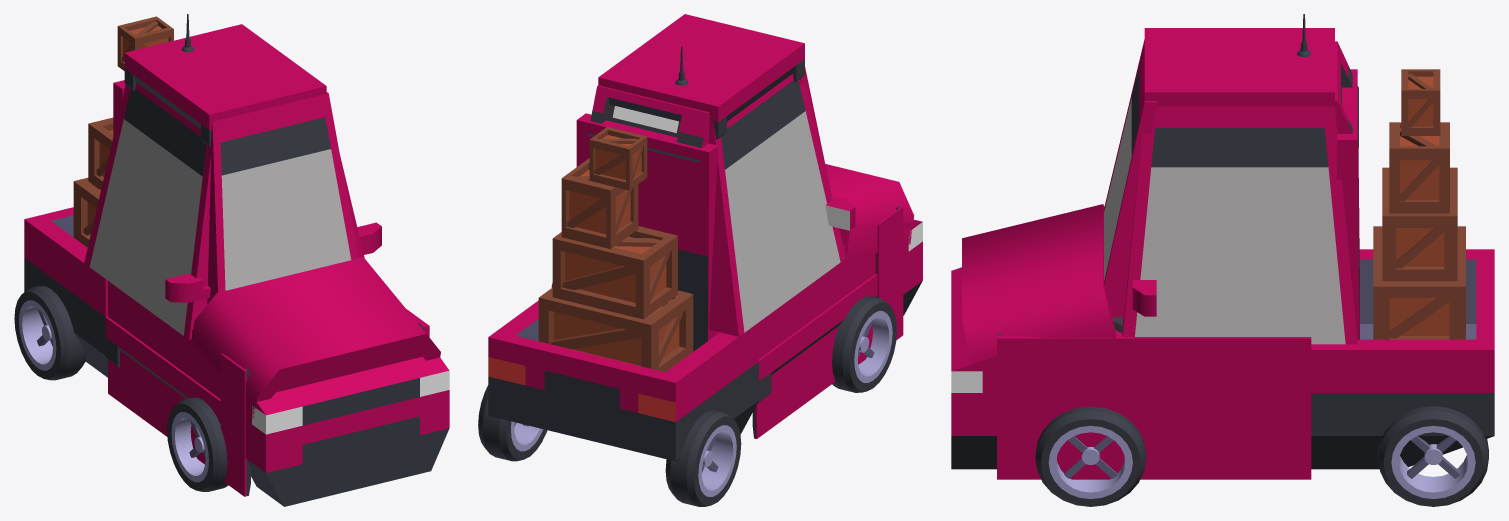
File: Car.fbx
3 renders of one model, left to right at view 1: azimuth 30°, elevation 25°; view 2: azimuth 150°, elevation 25°; view 3: azimuth 270°, elevation 25°, orthographic. The views are drawn at different scales.
Parts seen in each view (by area): view 1: body_topWindshield (×2), body_edge (×4), body_frontTruckFlat, spoiler_round, body_backBedClosed, wheel_backR, detail_crateLong (×3), wheel_frontR, detail_mirror (×2); view 2: body_edge (×4), detail_crateLong (×4), body_topWindshield, body_backBedClosed, body_topBackVan, wheel_backR, wheel_frontR, spoiler_round, body_topBackVanWindow%, wheel_backL, body_frontTruckFlat, detail_mirror; view 3: body_topWindshield (×2), body_edge (×3), body_backBedClosed, detail_crateLong (×4), spoiler_round, wheel_backL, wheel_frontL, body_frontTruckFlat, body_topBackVan, body_topBackVanWindow%, detail_mirror.
Boxes of the visible parts, box(x1,y1,x2,y2) form: body_topWindshield (×2): box(84, 82, 358, 339); body_edge (×4): box(105, 24, 326, 496); body_frontTruckFlat: box(245, 356, 449, 506); spoiler_round: box(191, 257, 440, 418); body_backBedClosed: box(24, 207, 107, 377); wheel_backR: box(14, 286, 86, 380); detail_crateLong (×3): box(73, 16, 173, 247); wheel_frontR: box(167, 397, 228, 491); detail_mirror (×2): box(165, 222, 381, 302); body_edge (×4): box(598, 14, 903, 438); detail_crateLong (×4): box(538, 127, 693, 372); body_topWindshield: box(708, 74, 845, 336); body_backBedClosed: box(488, 300, 758, 461); body_topBackVan: box(576, 113, 719, 351); wheel_backR: box(665, 410, 741, 506); wheel_frontR: box(832, 296, 897, 392); spoiler_round: box(825, 164, 914, 260); body_topBackVanWindow%: box(587, 85, 709, 162); wheel_backL: box(478, 385, 547, 461); body_frontTruckFlat: box(903, 219, 922, 315); detail_mirror: box(825, 196, 855, 230); body_topWindshield (×2): box(1104, 39, 1357, 344); body_edge (×3): box(997, 28, 1334, 479); body_backBedClosed: box(1311, 249, 1494, 469); detail_crateLong (×4): box(1373, 69, 1465, 339); spoiler_round: box(962, 204, 1116, 363); wheel_backL: box(1378, 406, 1488, 506); wheel_frontL: box(1035, 406, 1146, 506); body_frontTruckFlat: box(951, 267, 996, 469); body_topBackVan: box(1337, 69, 1359, 339); body_topBackVanWindow%: box(1163, 41, 1358, 147); detail_mirror: box(1132, 280, 1156, 316).
Size of the model in its own units: 11.79 by 19.98 by 22.82.
